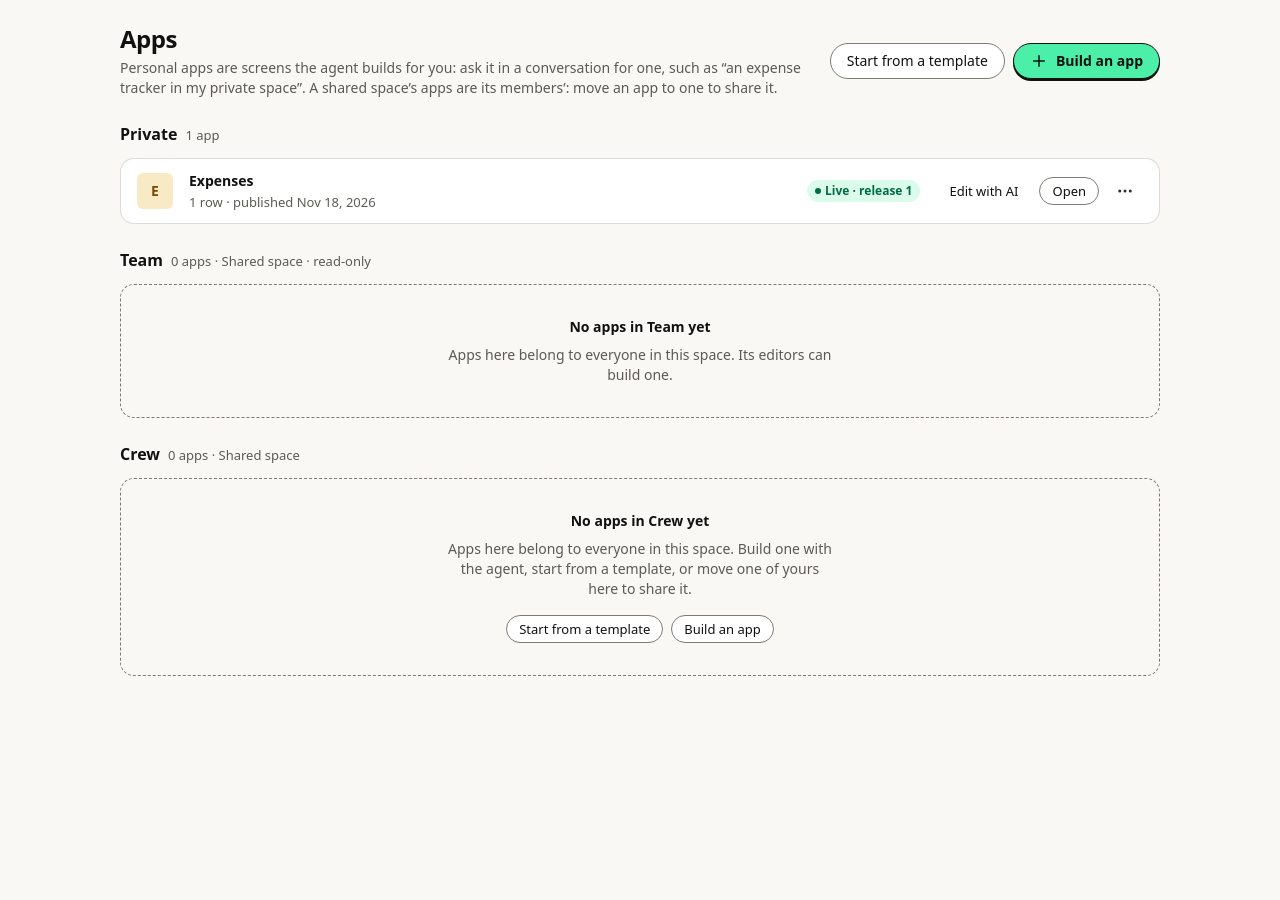
Test case: an app is shared by moving it to a space the user may write, with its rows
Click the button named "More actions for Expenses" at x=1125, y=191, box [1107,173,1143,209]
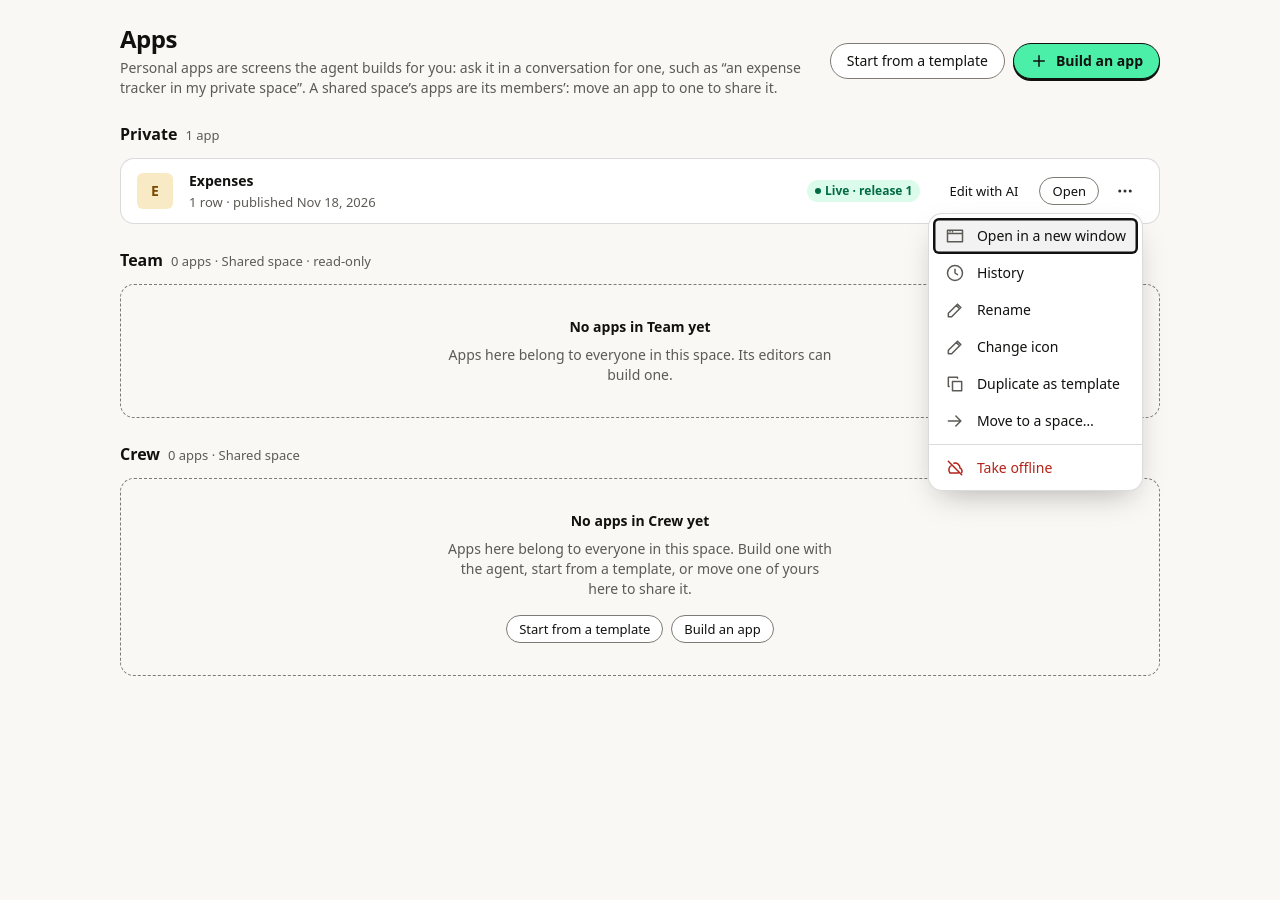
Click the menu item "Move to a space…" at x=1035, y=421, box [933,403,1138,439]
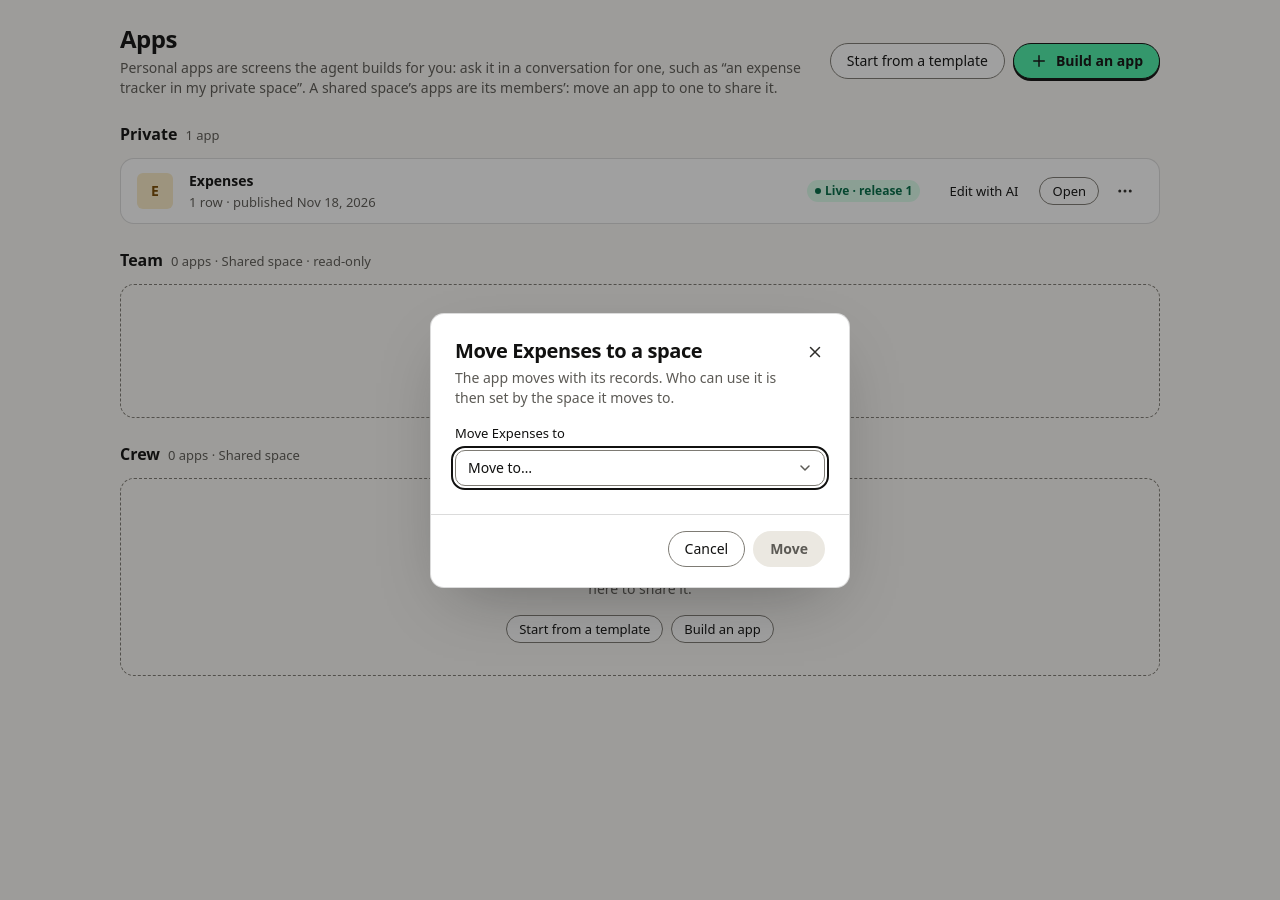
Select "Crew" in the dropdown labelled "Move Expenses to" at x=640, y=468, box [455,450,825,486]
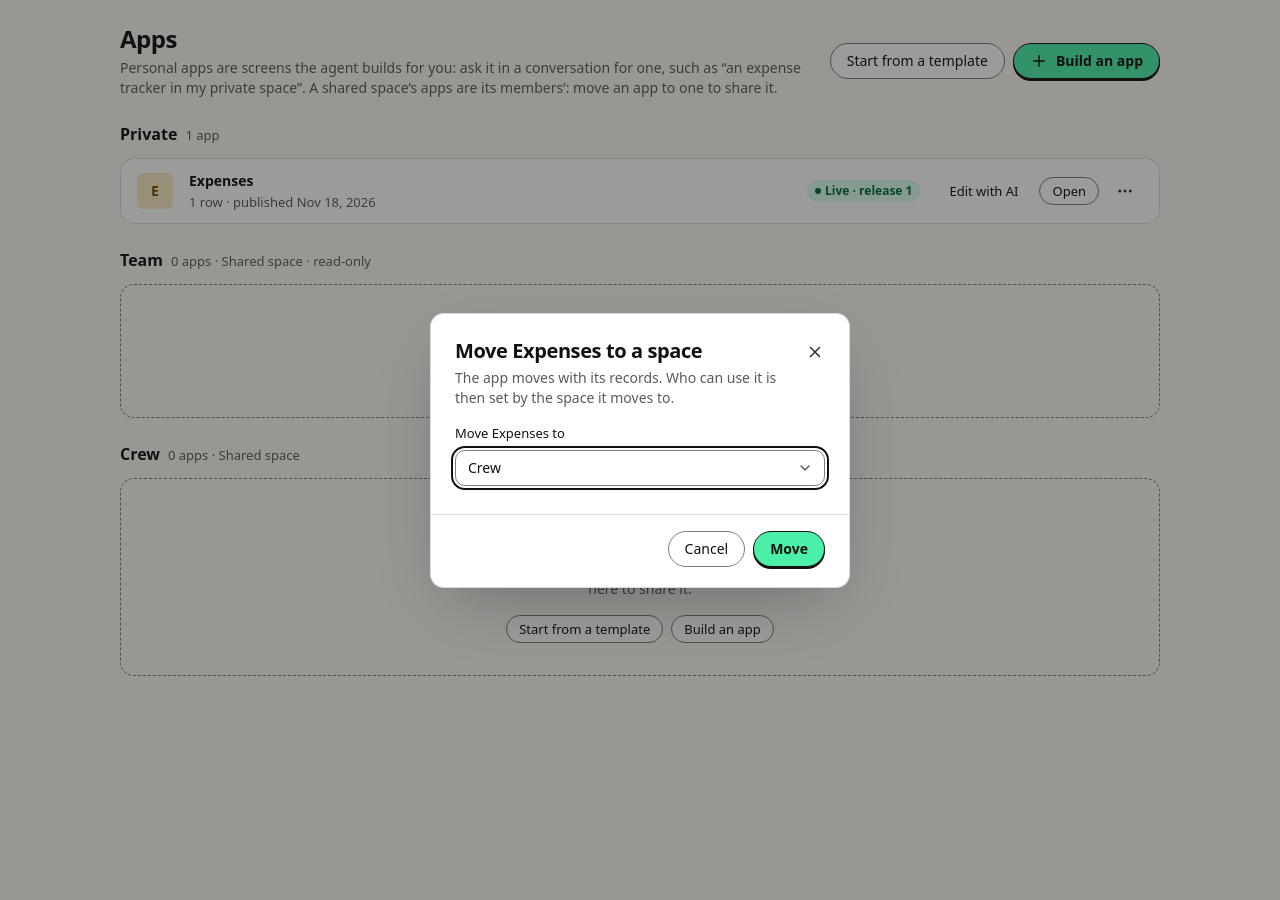
Click the button "Move" at x=789, y=548, box [753,530,825,566]
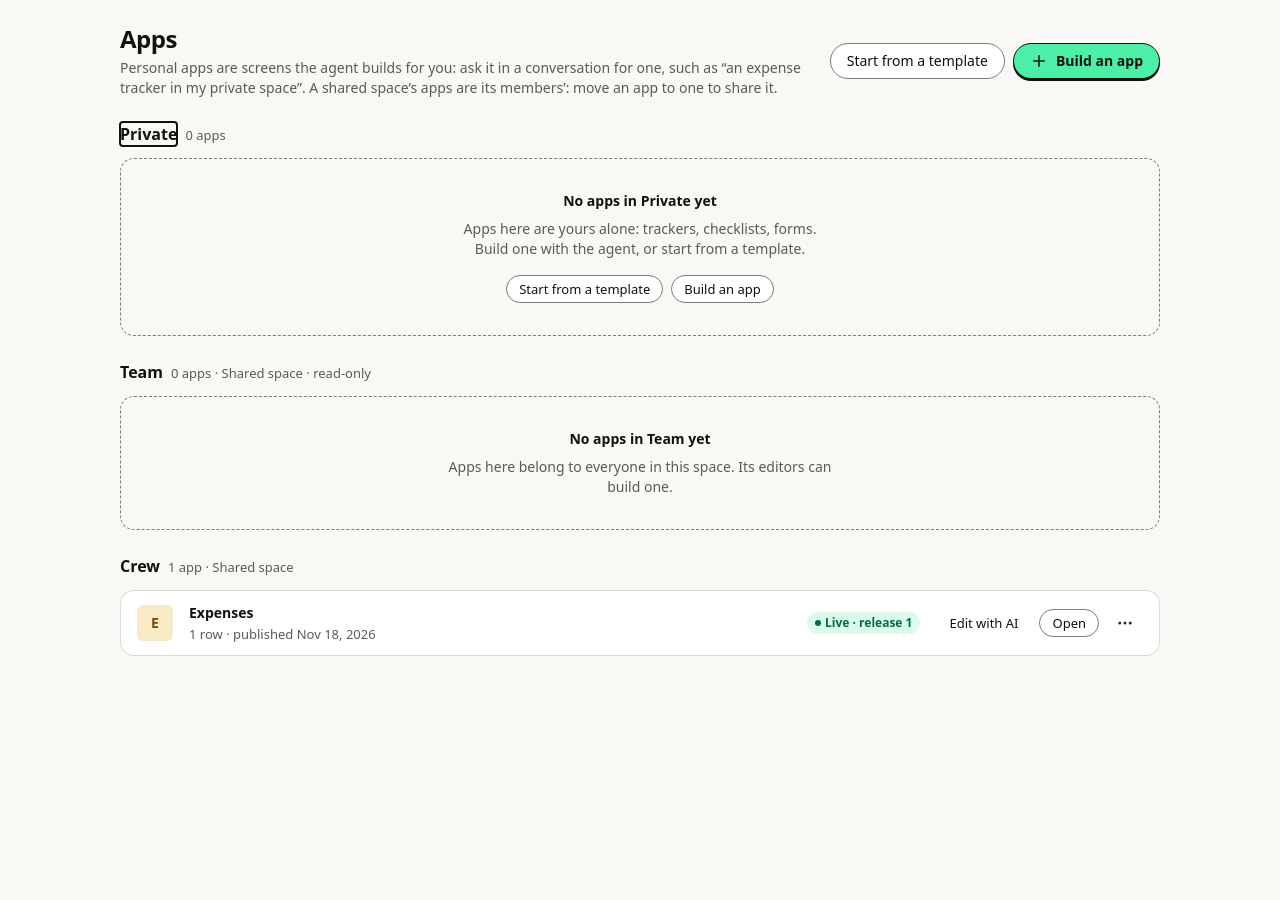
Check: the text "No apps in Private yet" is shown, box [563,191,717,211]
Check: the link "Build an app" below "No apps in Private yet" is shown, box [671,275,774,303]
Check: the link "Start from a template" below "No apps in Private yet" is shown, box [506,275,663,303]
